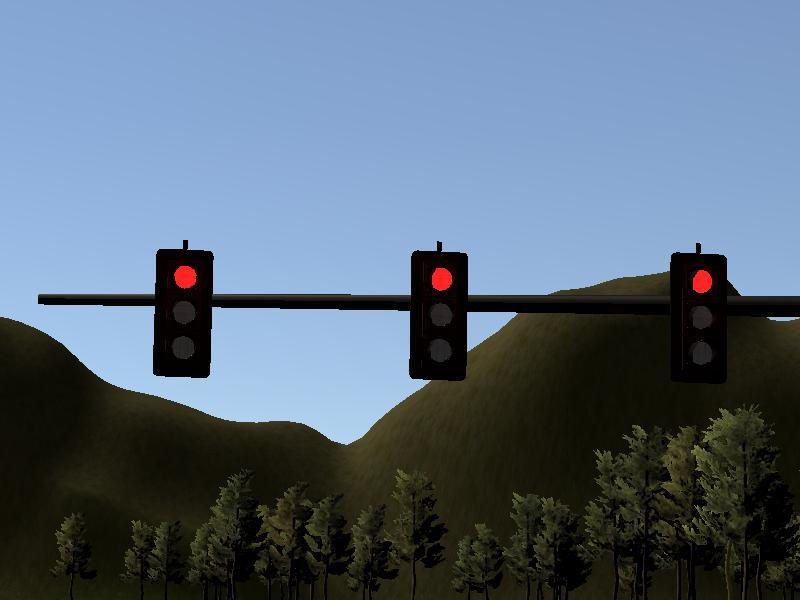Red: (156, 249, 209, 374), (413, 253, 465, 379), (673, 253, 723, 376)
